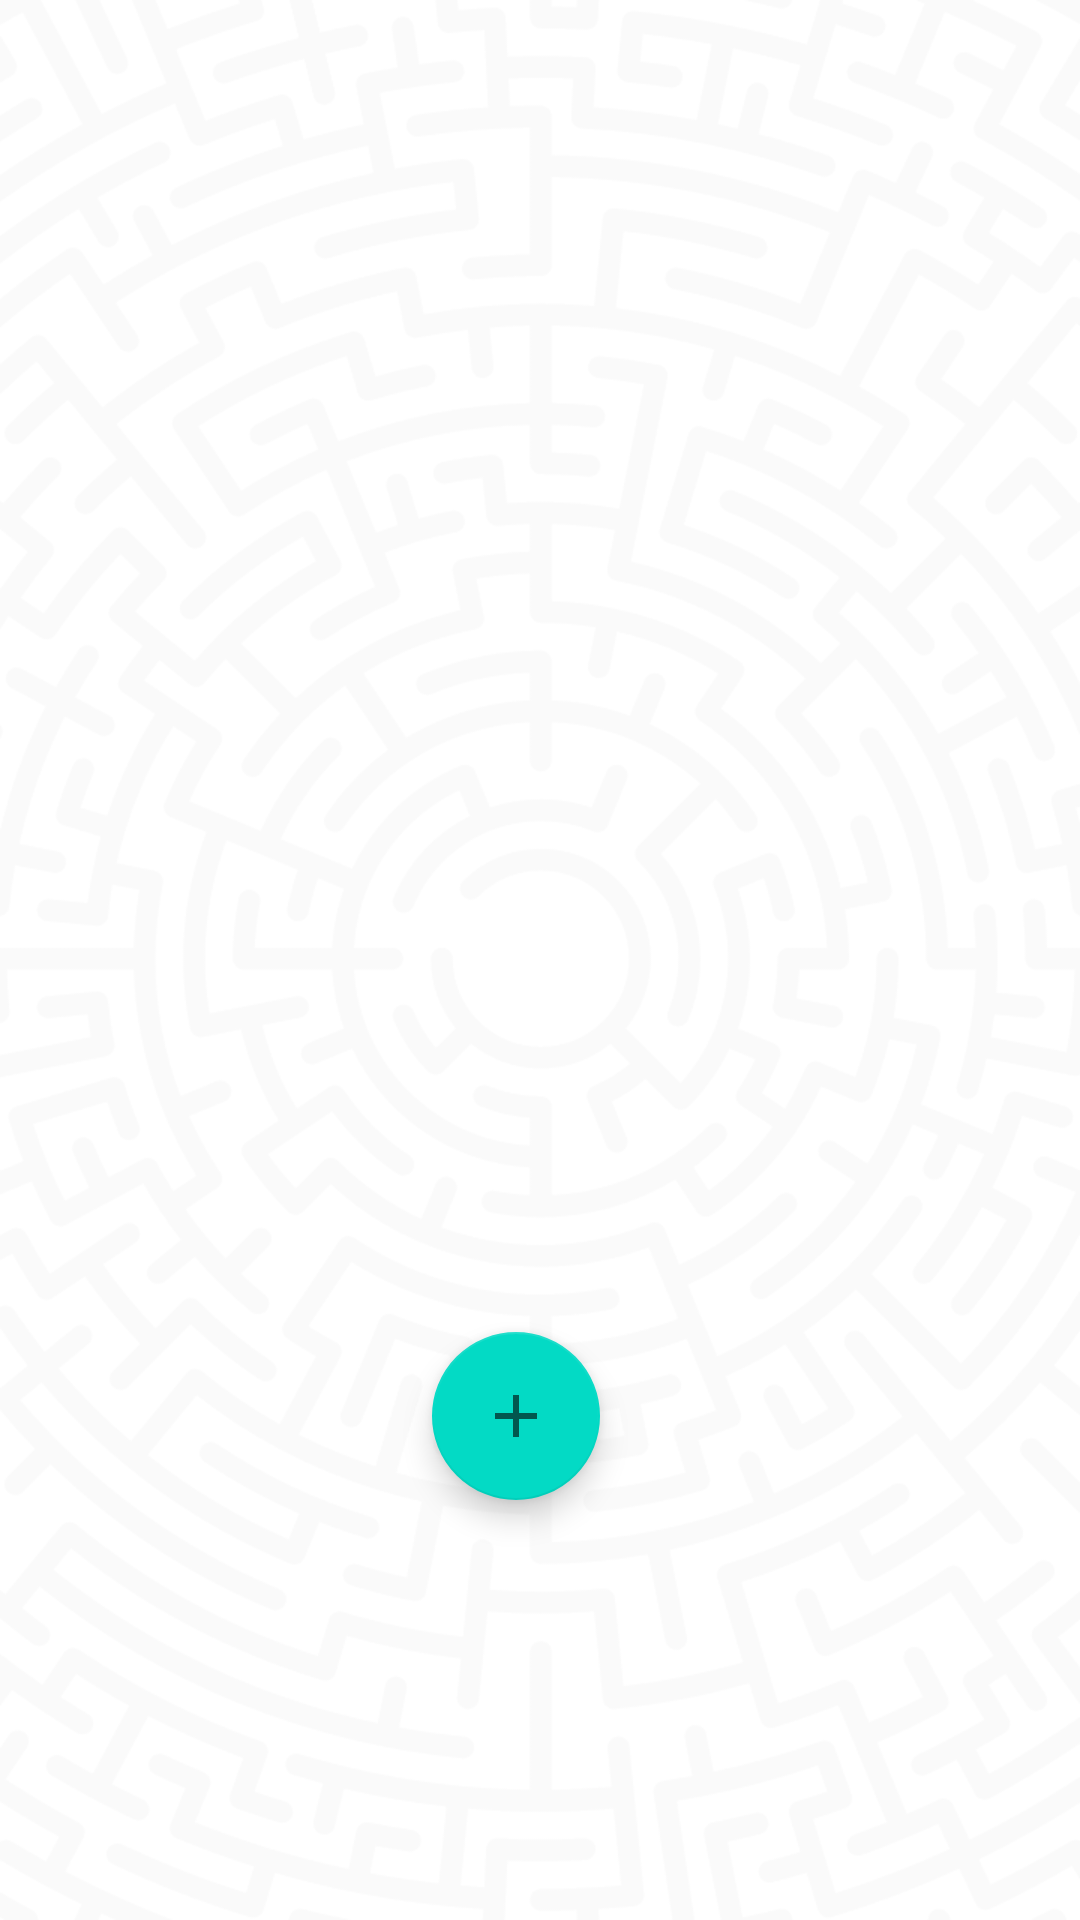

Where to tap for icons on this 1080px×1920px app screen, as point (x, y):
add: point (516, 1416)
